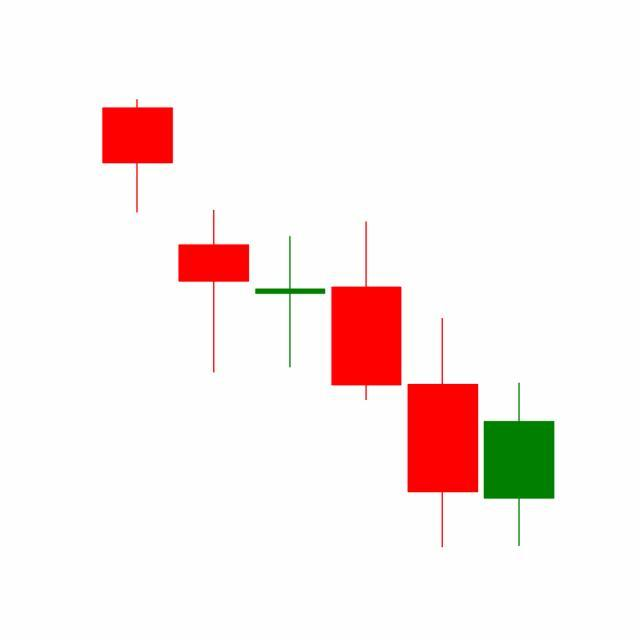Three Outside Up-Down: (252, 217, 482, 549)
